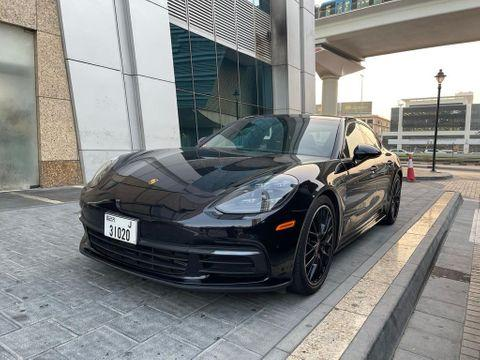porsche: (144, 174, 163, 189)
